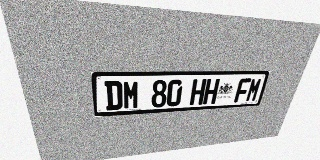0: (166, 79, 183, 107)
8: (151, 80, 168, 108)
D: (104, 81, 123, 110)
F: (234, 78, 251, 102)
H: (189, 79, 207, 105), (202, 79, 220, 104)
M: (123, 80, 140, 109), (245, 78, 263, 102)
